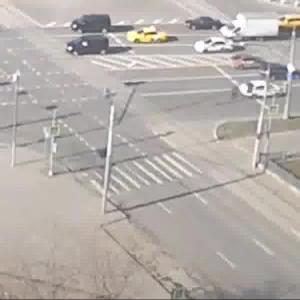car: (228, 15, 279, 40), (242, 79, 283, 102), (68, 36, 110, 57), (71, 16, 114, 34), (128, 28, 167, 47), (194, 38, 237, 55), (189, 18, 224, 33), (228, 55, 260, 71), (276, 11, 300, 29)
